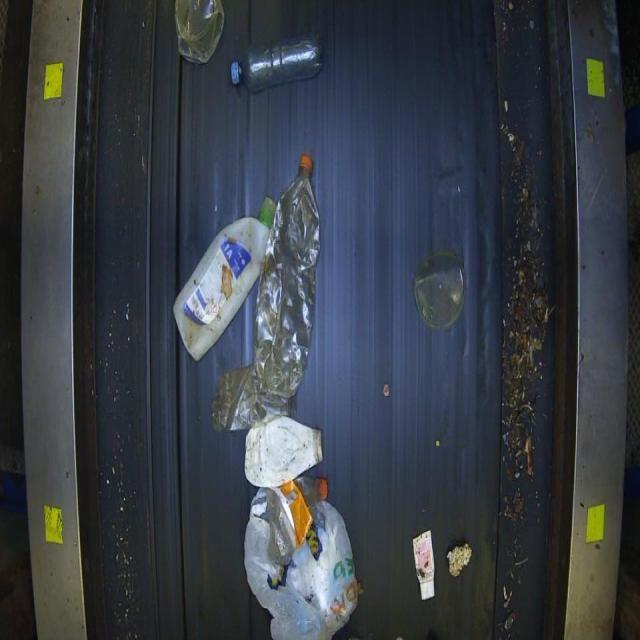cups: (171, 195, 276, 361), (230, 33, 324, 93)
